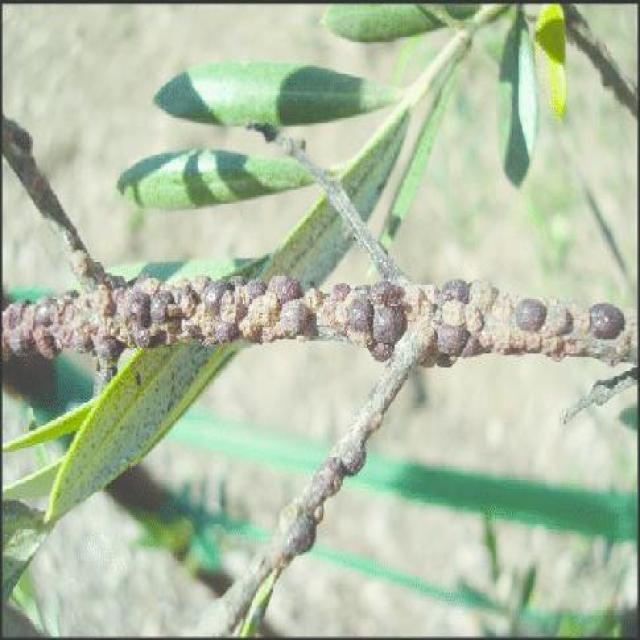Black Scale: (3, 250, 633, 385), (269, 427, 369, 580)
